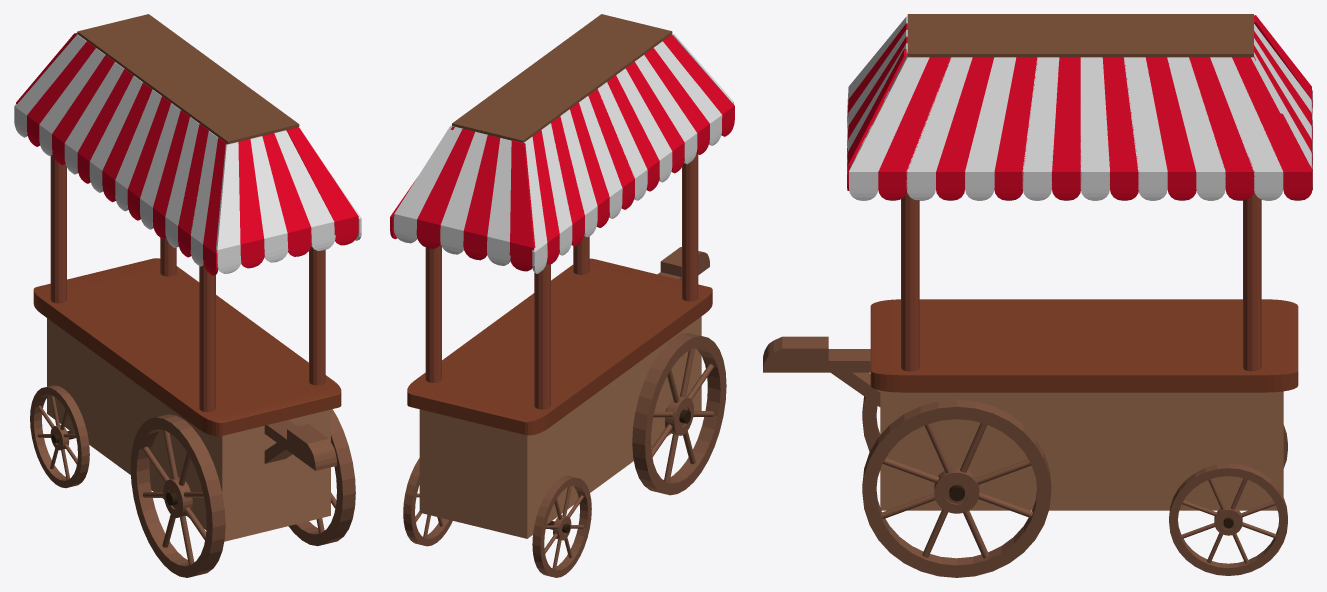
Rendered from Barraca de vendas.fbx.
3 views of the same model, side by side, from view 1: azimuth 30°, elevation 25°; view 2: azimuth 150°, elevation 25°; view 3: azimuth 270°, elevation 25° (orthographic). The views are drawn at different scales.
Parts seen in each view (by area): view 1: Cylinder.005; view 2: Cylinder.005; view 3: Cylinder.005.
Boxes of the visible parts, x1,y1,x2,y2 form: Cylinder.005: (14,14,361,577); Cylinder.005: (390,14,734,577); Cylinder.005: (763,14,1312,577).
Size of the model in its own units: 132 by 376 by 372.
